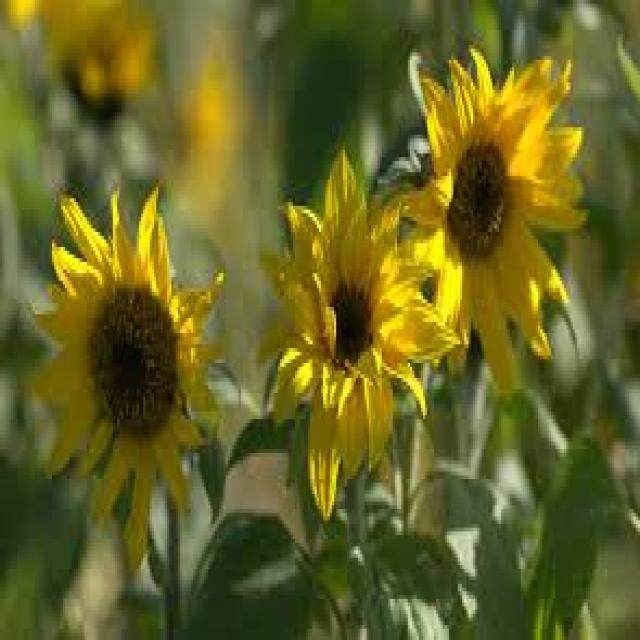sunflower: (16, 177, 232, 587), (261, 142, 467, 534), (381, 33, 595, 404)
